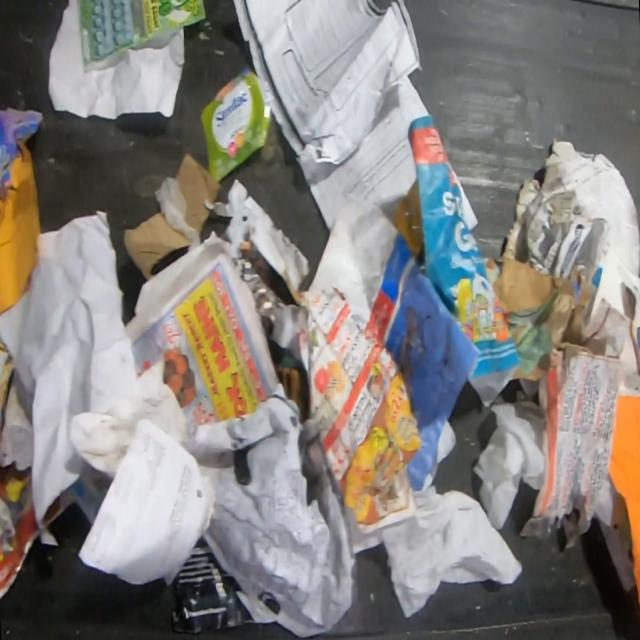cardboard: (122, 211, 190, 281), (493, 256, 573, 313), (175, 151, 226, 236), (0, 104, 44, 201), (274, 363, 305, 421)
soft_plastic: (197, 60, 272, 182), (153, 176, 202, 253)
